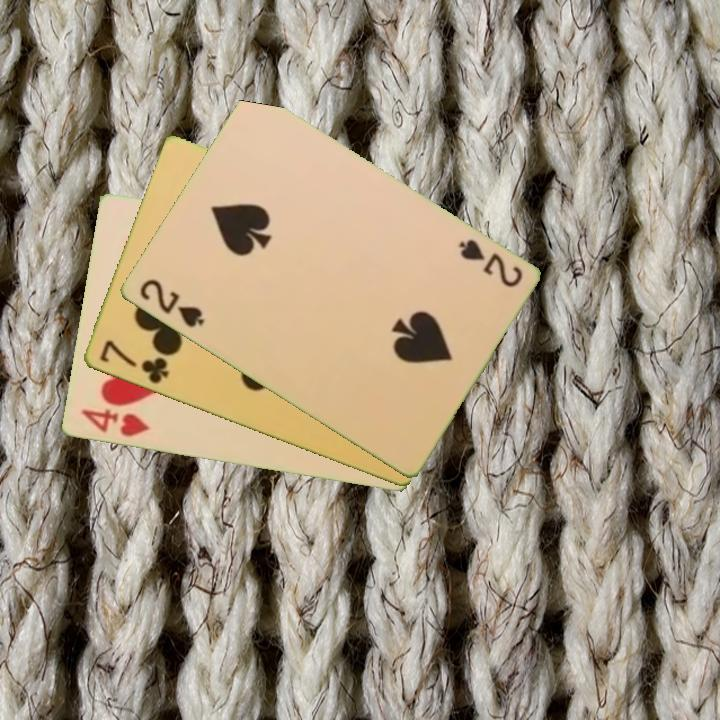2s: (135, 275, 207, 331), (454, 235, 525, 291)
4h: (77, 406, 153, 440)
7c: (95, 336, 171, 387)
